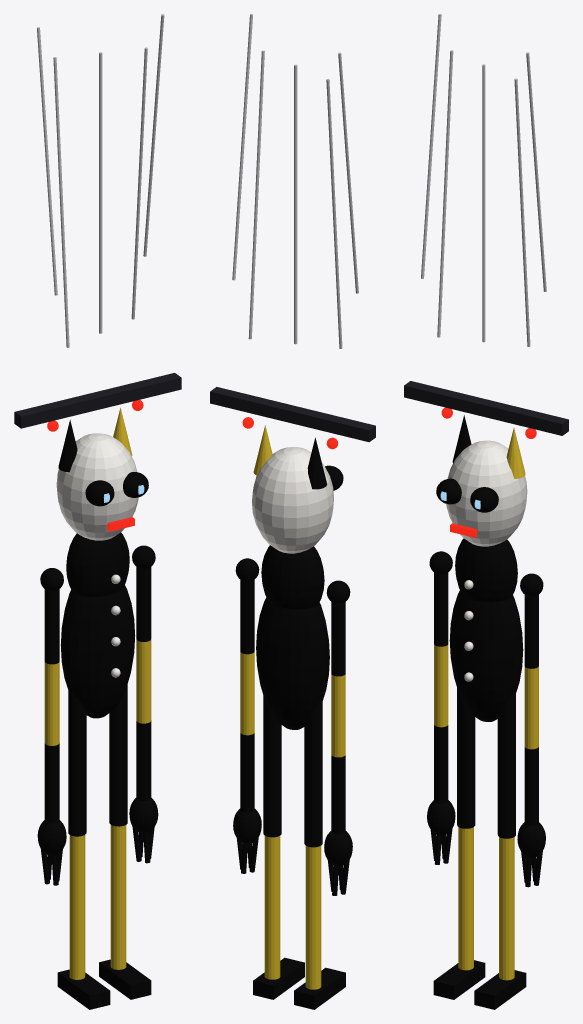
The model's file is wonder.glb.
3 renders of one model, left to right at view 1: azimuth 30°, elevation 25°; view 2: azimuth 150°, elevation 25°; view 3: azimuth 330°, elevation 25°, orthographic.
Visible parts, largest first — view 1: W0_Torso, W0_Mask, W0_Chest, W0_BarMain, W0_Thigh-1, W0_Shin-1, W0_Shin1, W0_Thigh1, W0_ArmSeg-11, W0_ArmSeg11, W0_Foot-1, W0_Foot1 (+17 smaller); view 2: W0_Torso, W0_Mask, W0_Chest, W0_Thigh-1, W0_Shin-1, W0_Shin1, W0_BarMain, W0_Thigh1, W0_BarCross, W0_ArmSeg-11, W0_ArmSeg11, W0_Foot-1 (+16 smaller); view 3: W0_Torso, W0_Mask, W0_Chest, W0_Thigh1, W0_BarMain, W0_Thigh-1, W0_Shin-1, W0_Shin1, W0_Foot1, W0_Foot-1, W0_ArmSeg11, W0_ArmSeg-11 (+17 smaller).
Boxes of the visible parts, bbox=[...] form: W0_Torso: bbox=[60, 585, 135, 718]; W0_Mask: bbox=[56, 433, 138, 540]; W0_Chest: bbox=[66, 532, 129, 596]; W0_BarMain: bbox=[14, 373, 181, 428]; W0_Thigh-1: bbox=[68, 688, 86, 836]; W0_Shin-1: bbox=[69, 835, 85, 979]; W0_Shin1: bbox=[110, 825, 126, 969]; W0_Thigh1: bbox=[109, 684, 127, 826]; W0_ArmSeg-11: bbox=[44, 661, 59, 745]; W0_ArmSeg11: bbox=[136, 639, 151, 723]; W0_Foot-1: bbox=[57, 969, 110, 1009]; W0_Foot1: bbox=[99, 959, 151, 999]; W0_Torso: bbox=[256, 597, 329, 729]; W0_Mask: bbox=[252, 447, 333, 553]; W0_Chest: bbox=[261, 545, 324, 609]; W0_Thigh-1: bbox=[304, 700, 322, 847]; W0_Shin-1: bbox=[305, 846, 321, 989]; W0_Shin1: bbox=[264, 836, 280, 979]; W0_BarMain: bbox=[210, 387, 375, 442]; W0_Thigh1: bbox=[263, 696, 281, 837]; W0_BarCross: bbox=[232, 397, 352, 436]; W0_ArmSeg-11: bbox=[331, 674, 345, 757]; W0_ArmSeg11: bbox=[240, 652, 254, 735]; W0_Foot-1: bbox=[294, 967, 345, 1009]; W0_Torso: bbox=[449, 590, 523, 721]; W0_Mask: bbox=[446, 440, 527, 546]; W0_Chest: bbox=[455, 538, 517, 602]; W0_Thigh1: bbox=[497, 692, 515, 838]; W0_BarMain: bbox=[404, 381, 568, 435]; W0_Thigh-1: bbox=[457, 688, 475, 828]; W0_Shin-1: bbox=[458, 827, 473, 970]; W0_Shin1: bbox=[499, 837, 514, 980]; W0_Foot1: bbox=[474, 970, 526, 1009]; W0_Foot-1: bbox=[433, 960, 485, 999]; W0_ArmSeg11: bbox=[524, 666, 538, 749]; W0_ArmSeg-11: bbox=[434, 644, 448, 727].
Bounding box in the file's own units: 0.7 × 4.03 × 0.3625.
